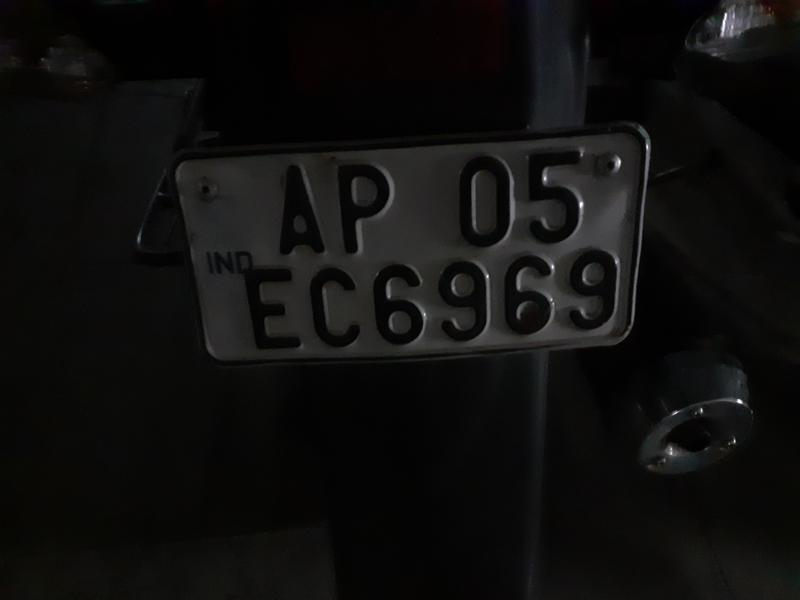numberplate: (160, 136, 659, 375)
